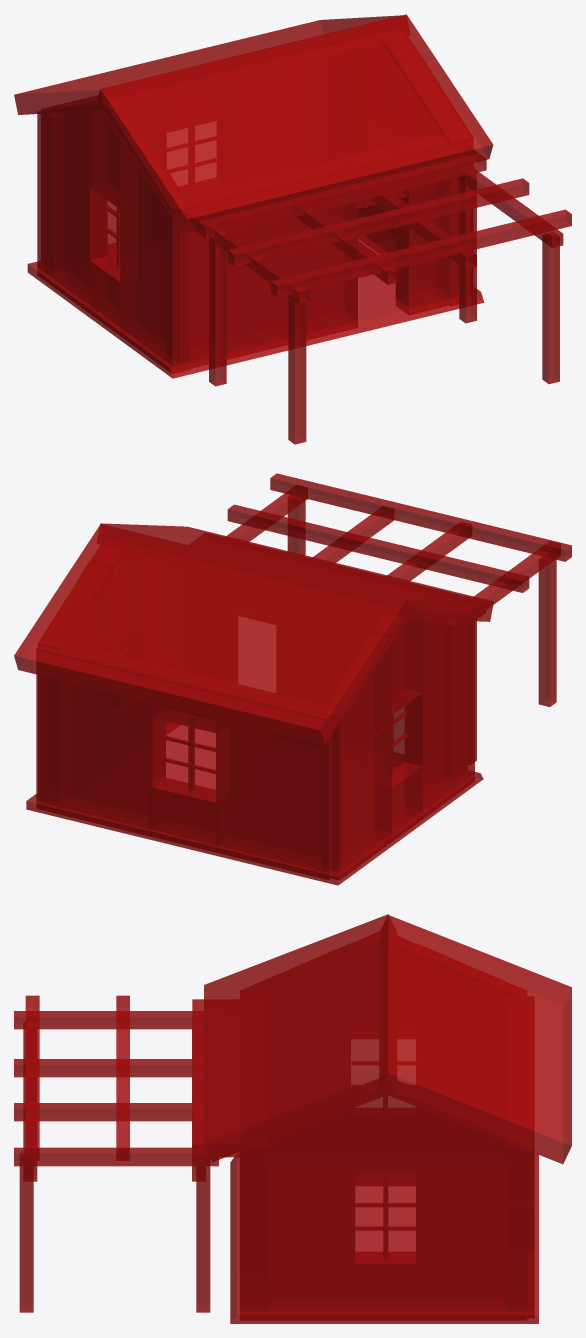
Rendered from SM_Bld_Stone_Cabin_01_Collision.fbx.
The picture shows the model from 3 angles, top to bottom: view 1: azimuth 30°, elevation 25°; view 2: azimuth 150°, elevation 25°; view 3: azimuth 270°, elevation 25°; orthographic projection. The views are drawn at different scales.
Visible parts, largest first — view 1: SM_Bld_Stone_Cabin_01_Collision; view 2: SM_Bld_Stone_Cabin_01_Collision; view 3: SM_Bld_Stone_Cabin_01_Collision.
Boxes of the visible parts, x1,y1,x2,y2 form: SM_Bld_Stone_Cabin_01_Collision: (14,14,571,444); SM_Bld_Stone_Cabin_01_Collision: (14,473,571,885); SM_Bld_Stone_Cabin_01_Collision: (14,914,571,1323).
Bounding box in the file's own units: 556 × 402 × 812.
